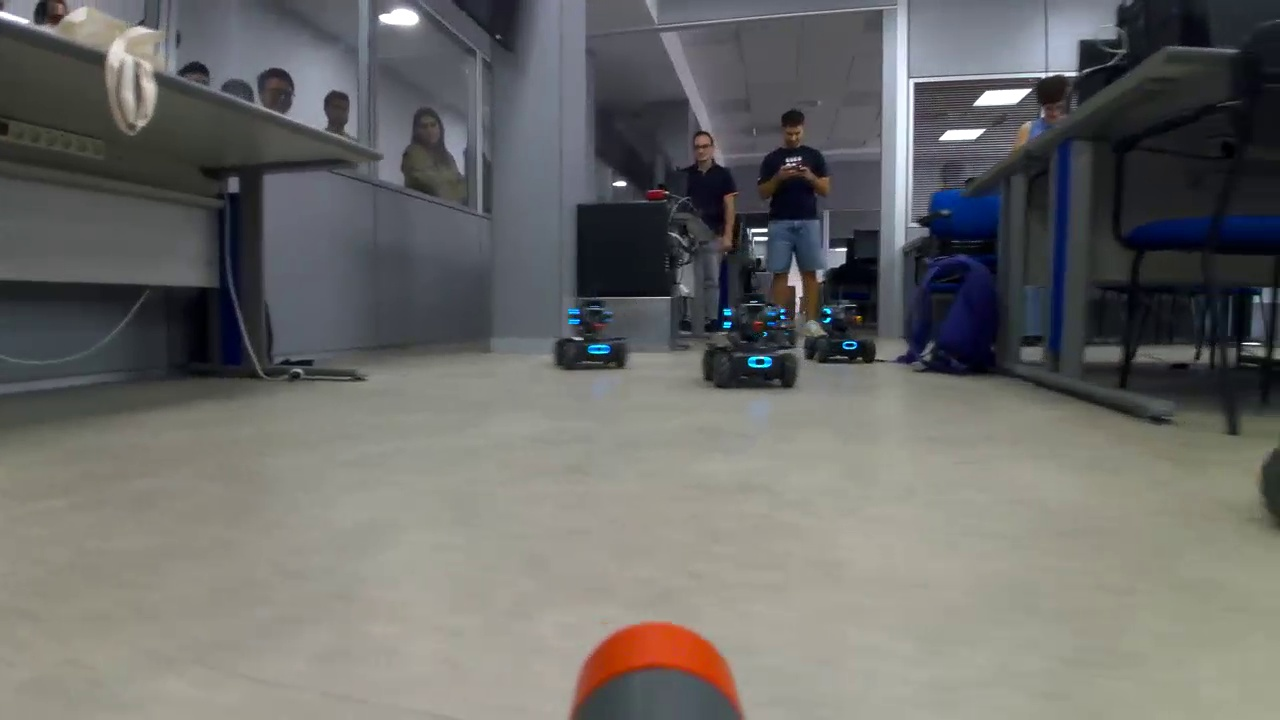robot: (695, 292, 802, 396), (550, 291, 637, 376), (803, 297, 890, 368), (1255, 443, 1280, 553)
